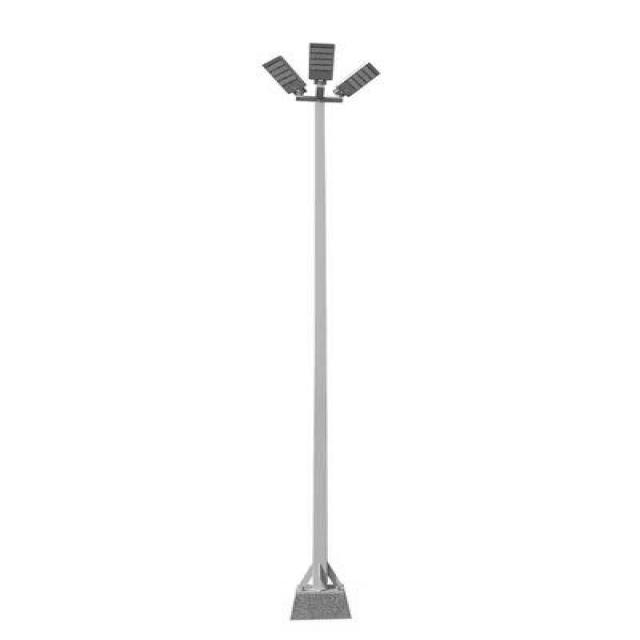Pole: (262, 43, 381, 621)
